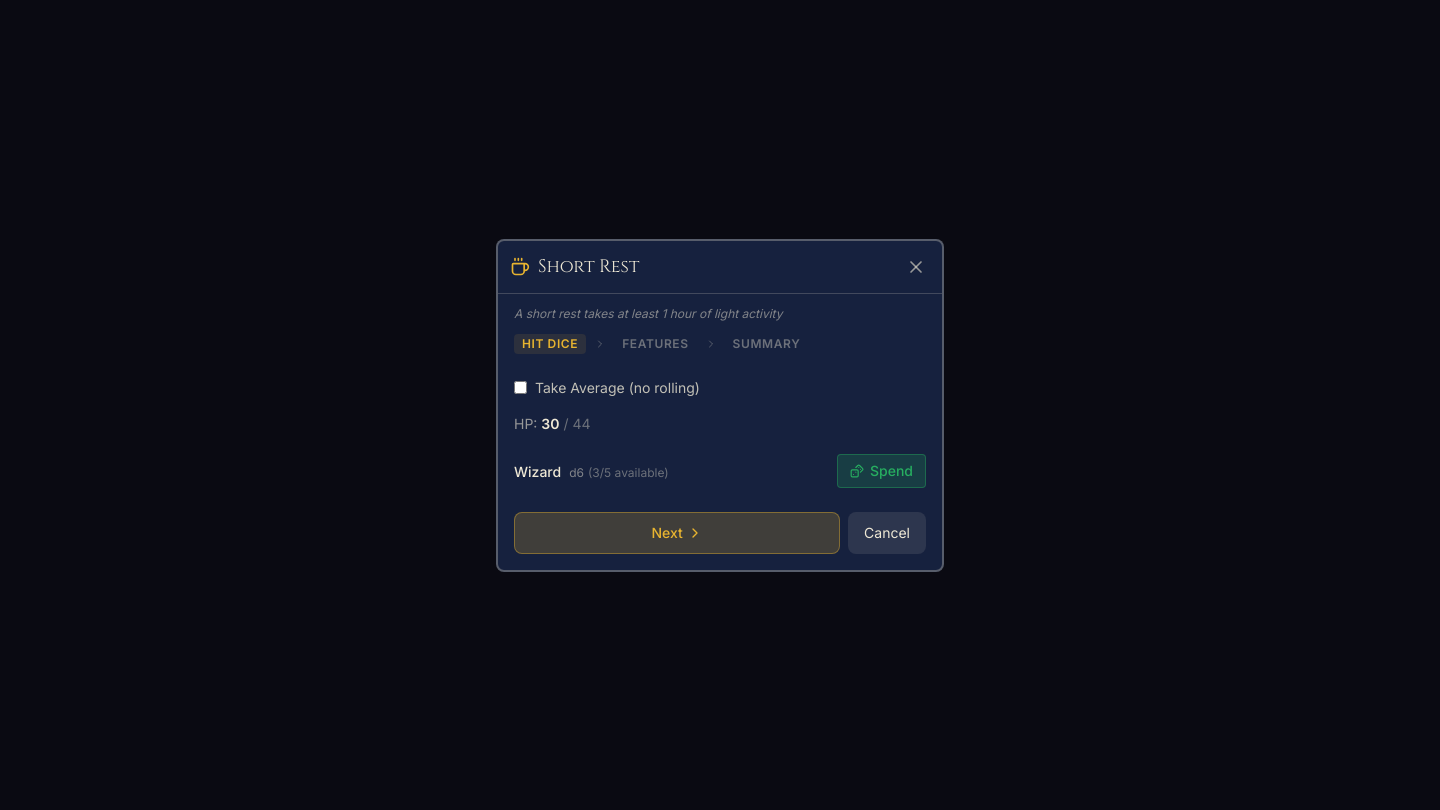
Test case: ShortRestModal › shows Arcane Recovery prompt for Wizard
The image size is (1440, 810).
# Navigate to features step
Click the button with test id "step-next-button".
click(677, 532)  # box top-left (514, 512), bottom-right (840, 554)
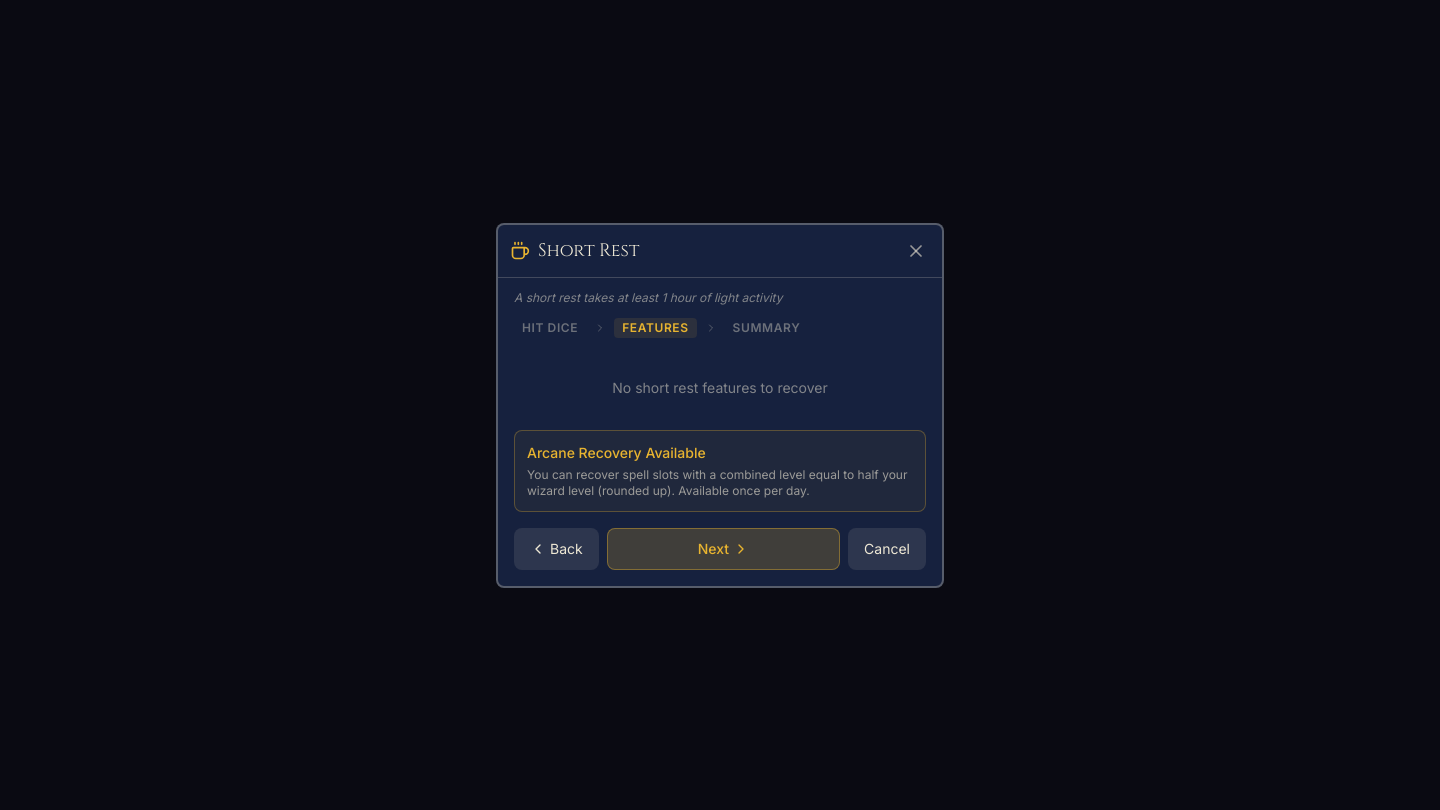
Result: the element with test id "arcane-recovery-prompt" is shown at top-left (514, 430), bottom-right (926, 512)
